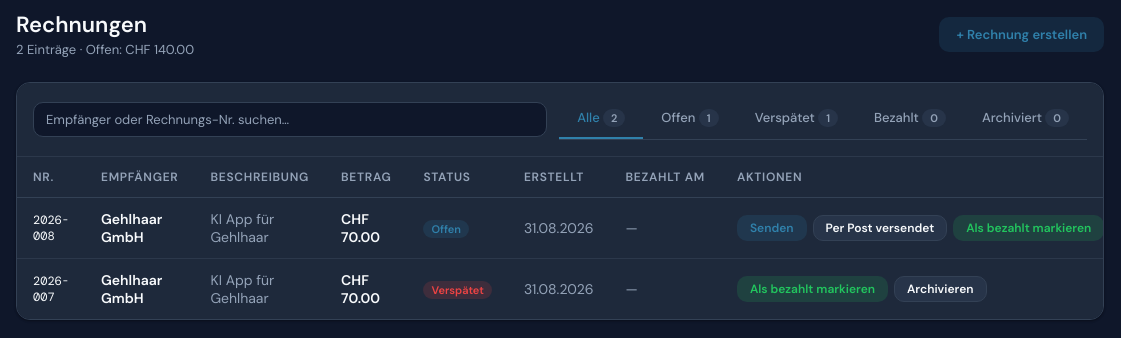
OperatorInvoicesScreen › der Reiter «Verspätet» zeigt nur überfällige
This screenshot has width=1121, height=338.
Expected: the text "2026-008" is shown, [17, 198, 85, 258]
Click the button "Verspätet 1": (796, 119) [737, 99, 856, 139]
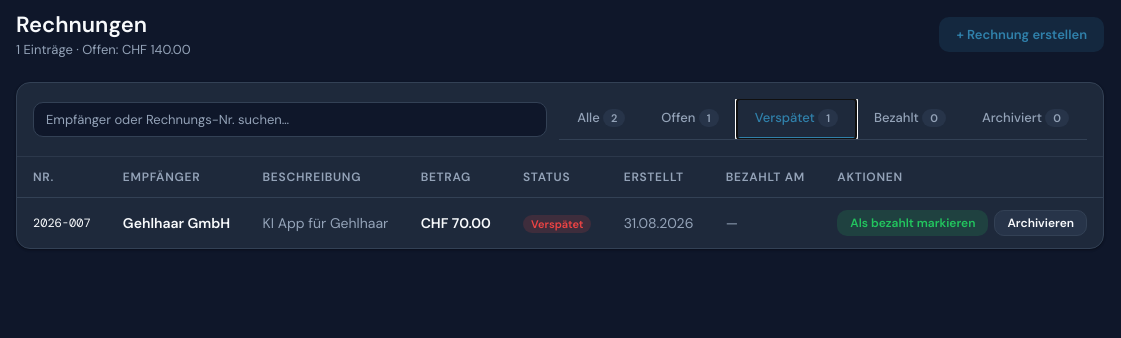
Expected: the text "2026-007" is shown, [17, 198, 107, 248]
Expected: the text "2026-008" is gone
